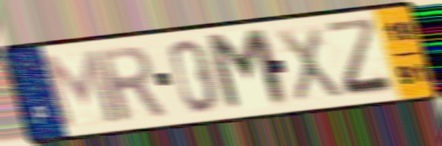0: (169, 36, 221, 117)
M: (202, 26, 294, 115), (35, 46, 123, 130)
R: (92, 43, 170, 124)
X: (273, 23, 346, 105)
Z: (321, 15, 400, 100)
